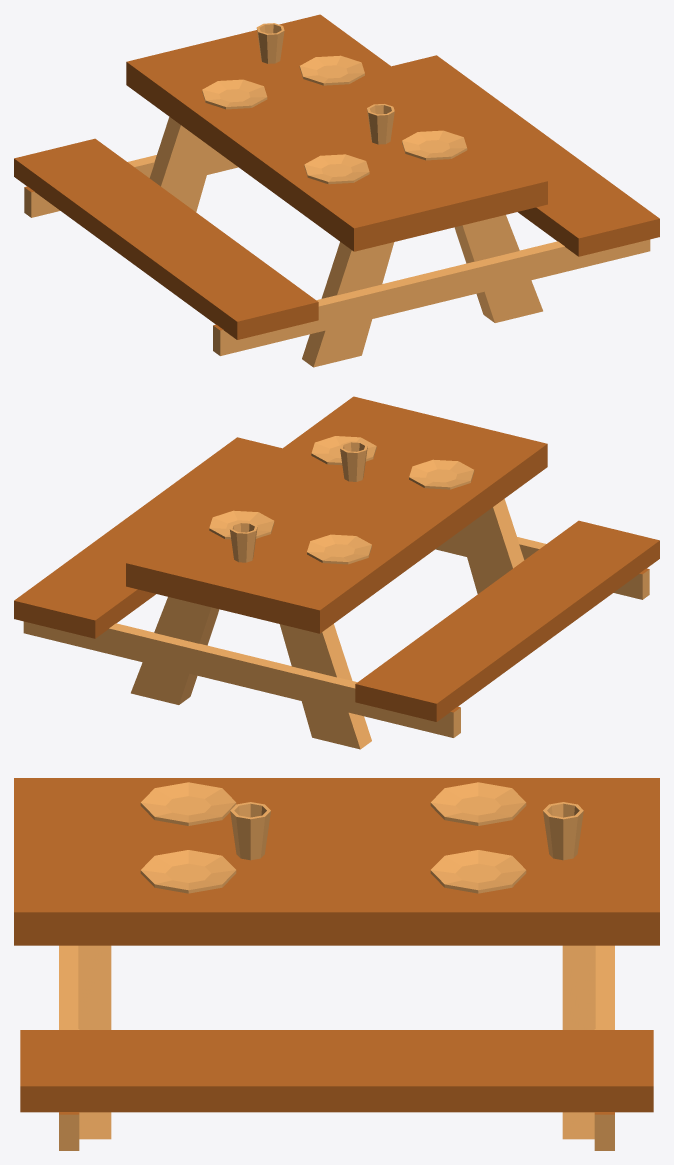
File: PicnicTable.fbx
The picture shows the model from 3 angles, top to bottom: view 1: azimuth 30°, elevation 25°; view 2: azimuth 150°, elevation 25°; view 3: azimuth 270°, elevation 25°; orthographic projection. The views are drawn at different scales.
Parts seen in each view (by area): view 1: PicnicTable; view 2: PicnicTable; view 3: PicnicTable.
Boxes of the visible parts, <box> form: PicnicTable: <box>14,14,659,367</box>; PicnicTable: <box>14,396,659,749</box>; PicnicTable: <box>14,778,659,1150</box>.
Bounding box in the file's own units: 736 × 298 × 675.
